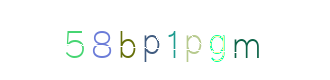1: (125, 0, 205, 80)
5: (86, 0, 166, 80)
8: (88, 0, 168, 80)
B: (93, 0, 173, 80)
G: (136, 0, 216, 80)
M: (206, 0, 286, 80)
P: (123, 0, 203, 80), (133, 0, 213, 80)
